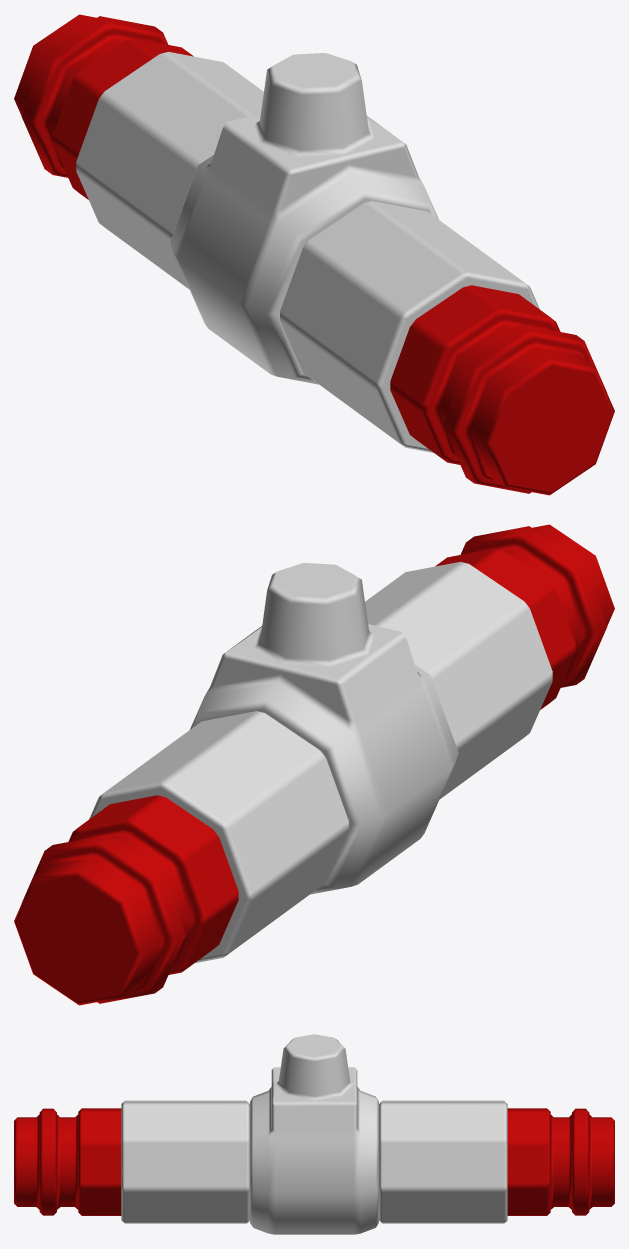
Rendered from Pipe01Fitting02e.fbx.
3 views of the same model, one above another, from view 1: azimuth 30°, elevation 25°; view 2: azimuth 150°, elevation 25°; view 3: azimuth 270°, elevation 25° (orthographic). The views are drawn at different scales.
Parts seen in each view (by area): view 1: Pipe01Fitting02e; view 2: Pipe01Fitting02e; view 3: Pipe01Fitting02e.
Boxes of the visible parts, box(x1,y1,x2,y2) form: Pipe01Fitting02e: box(14, 14, 614, 495); Pipe01Fitting02e: box(14, 524, 614, 1005); Pipe01Fitting02e: box(14, 1034, 614, 1234).
Size of the model in its own units: 4.5 by 6 by 17.5.
